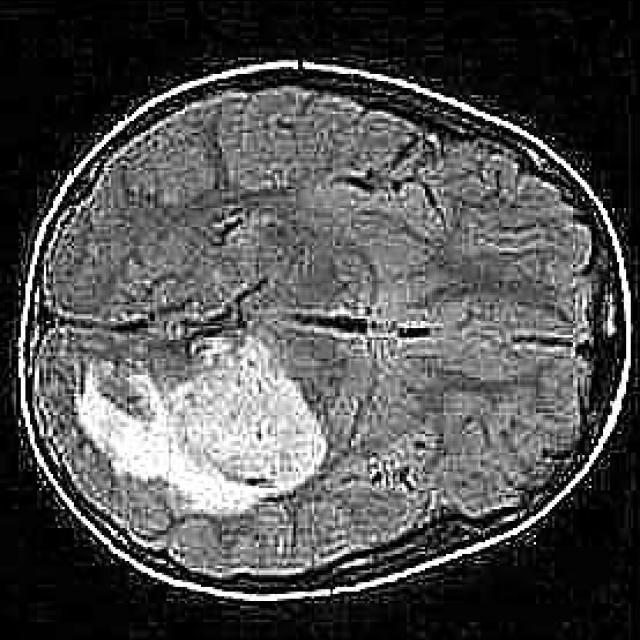tumor: (79, 344, 328, 513)
